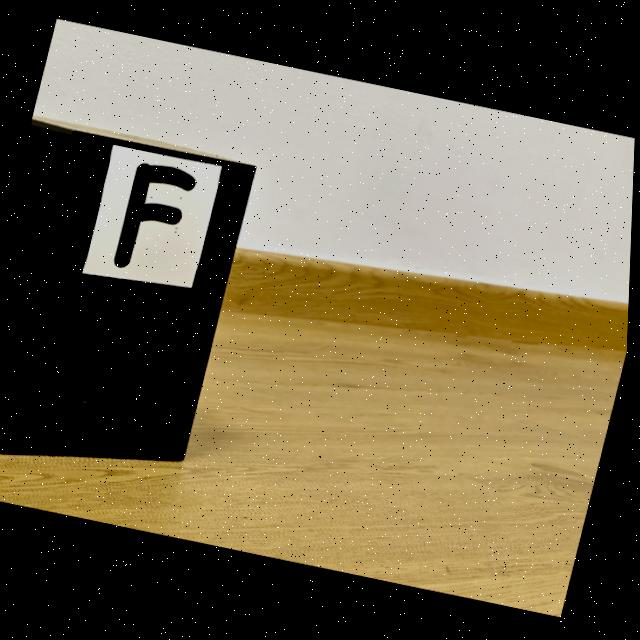F: (115, 163, 197, 268)
